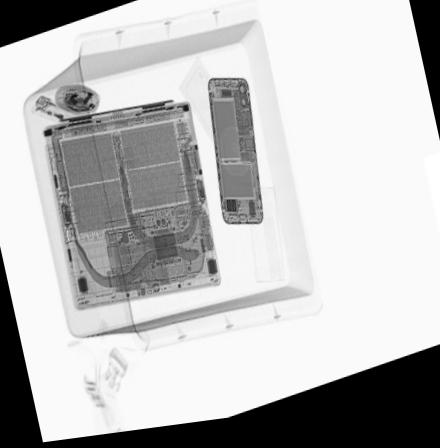Lighter: (34, 90, 92, 138)
